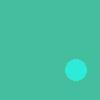Circle: (63, 57, 88, 84)
